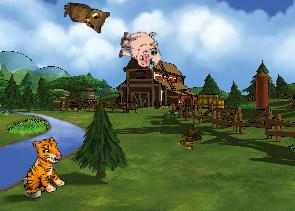owl: (61, 2, 110, 34)
pig: (116, 27, 163, 71)
tiger: (13, 135, 71, 199)
